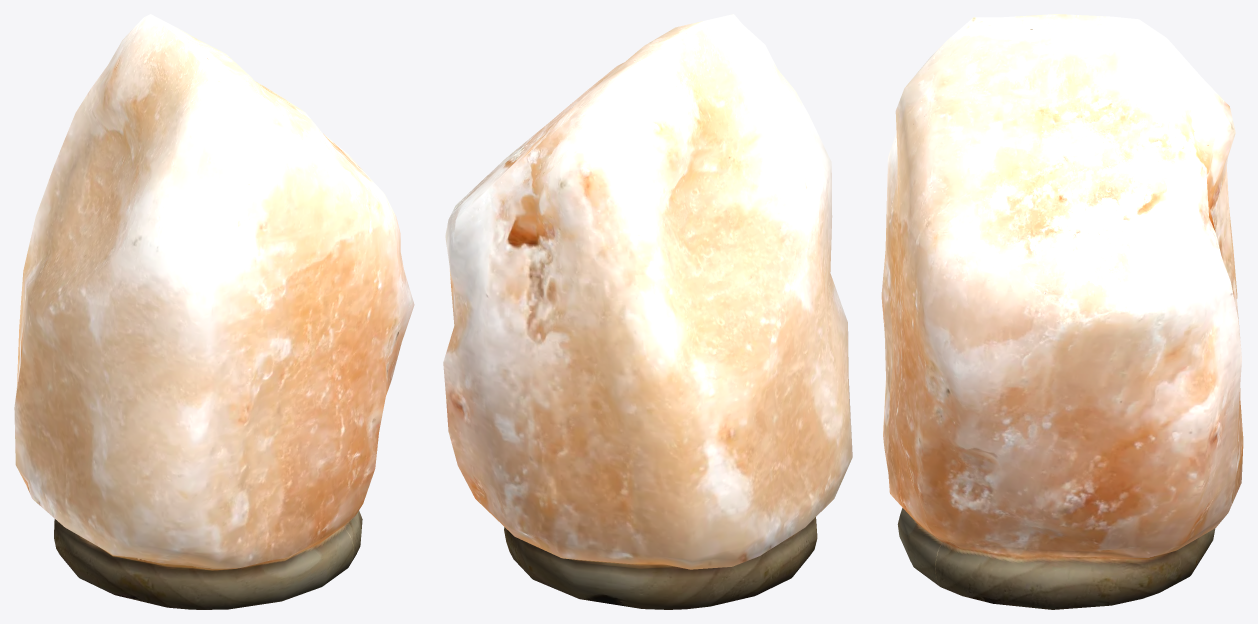
Rendered from lamp.glb.
3 renders of one model, left to right at view 1: azimuth 30°, elevation 25°; view 2: azimuth 150°, elevation 25°; view 3: azimuth 270°, elevation 25°, orthographic. The views are drawn at different scales.
Visible parts, largest first — view 1: Salt Rock Lamp; view 2: Salt Rock Lamp; view 3: Salt Rock Lamp.
Part boxes in pixels (<box>): Salt Rock Lamp: <box>14,14,414,609</box>; Salt Rock Lamp: <box>443,14,852,609</box>; Salt Rock Lamp: <box>881,14,1243,609</box>.
Bounding box in the file's own units: 0.2077 × 0.3168 × 0.1997.
1 material, 1 textured.
